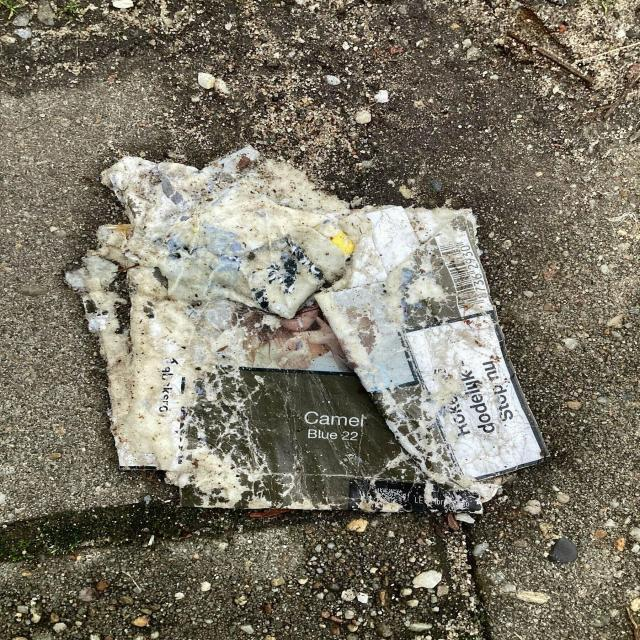Paper: (54, 139, 556, 532)
